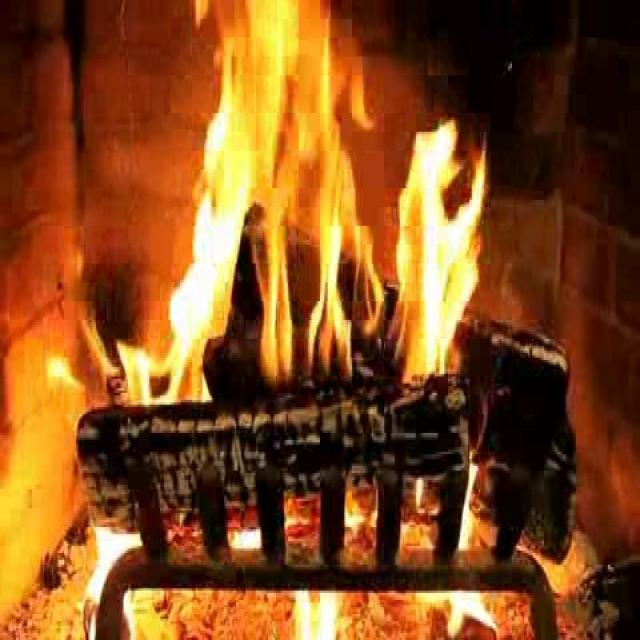fire: (184, 7, 469, 381)
